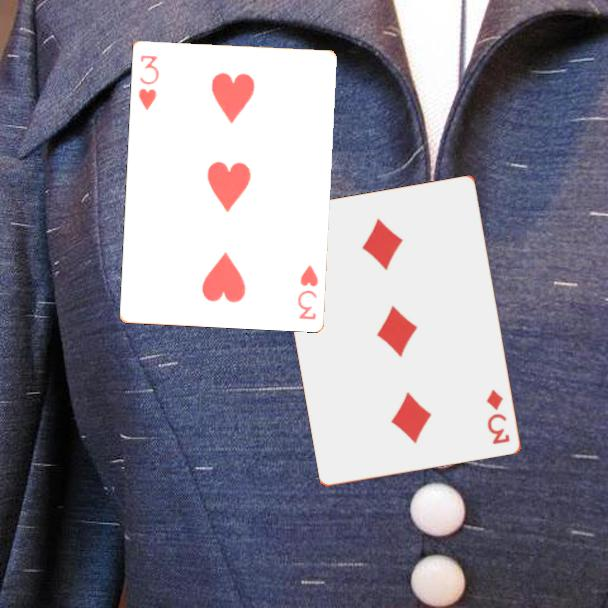d03: (483, 386, 513, 448)
h03: (135, 52, 162, 113), (294, 261, 321, 322)
